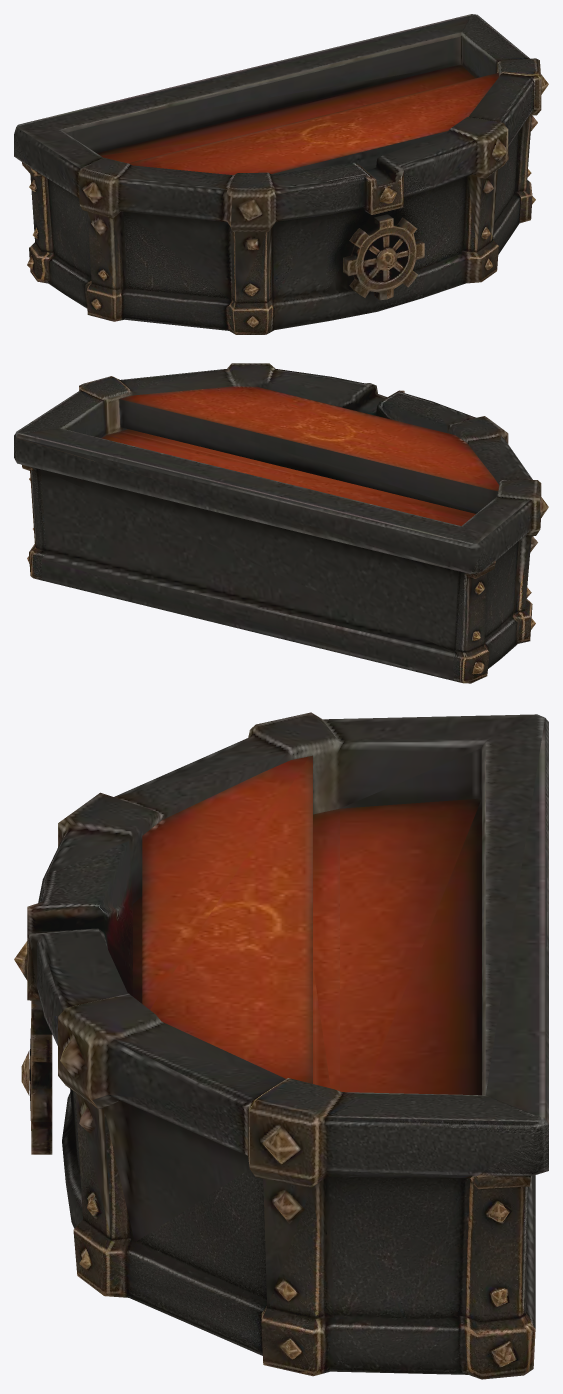
Rendered from ignivar_prop_fountain_base.glb.
3 renders of one model, top to bottom at view 1: azimuth 30°, elevation 25°; view 2: azimuth 150°, elevation 25°; view 3: azimuth 270°, elevation 25°, orthographic. The views are drawn at different scales.
Visible parts, largest first — view 1: fountain_base; view 2: fountain_base; view 3: fountain_base.
Part boxes in pixels (x1,y1,x2,y2): fountain_base: (14, 14, 548, 334); fountain_base: (14, 363, 548, 683); fountain_base: (14, 712, 548, 1379).
Size of the model in its own units: 0.998 by 0.3028 by 0.5449.
1 material, 1 textured.
